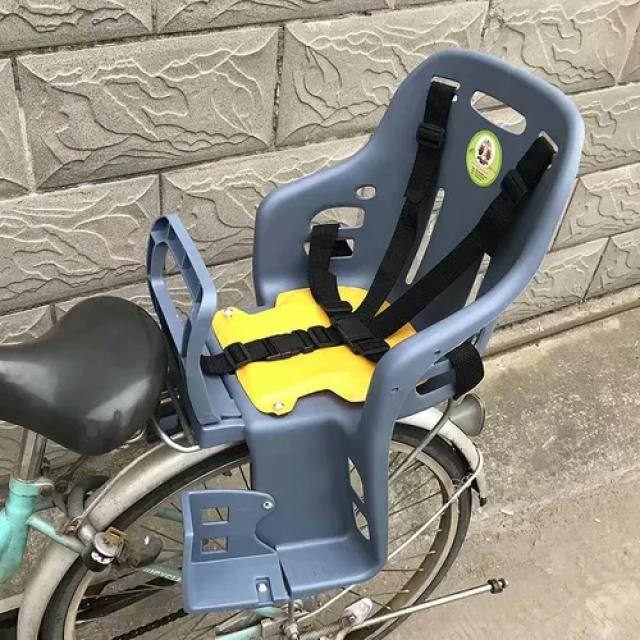childseat: (144, 45, 593, 618)
